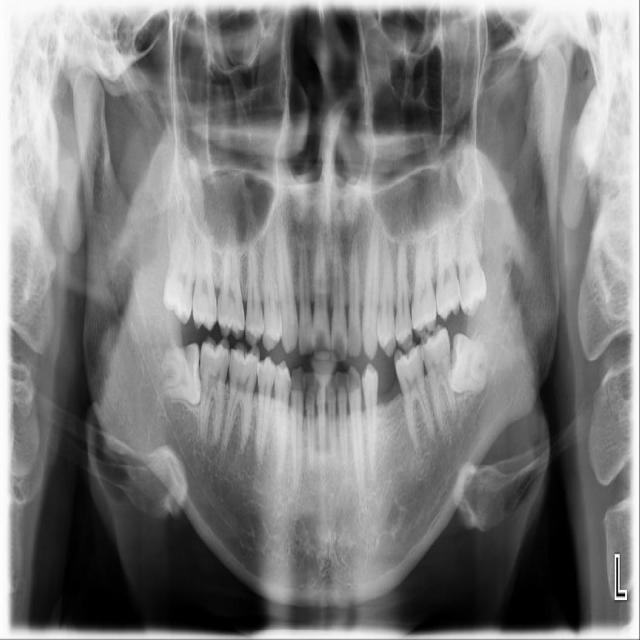Missing teeth: (374, 352, 404, 406)
impacted tooth: (449, 334, 498, 393), (156, 344, 202, 404)
